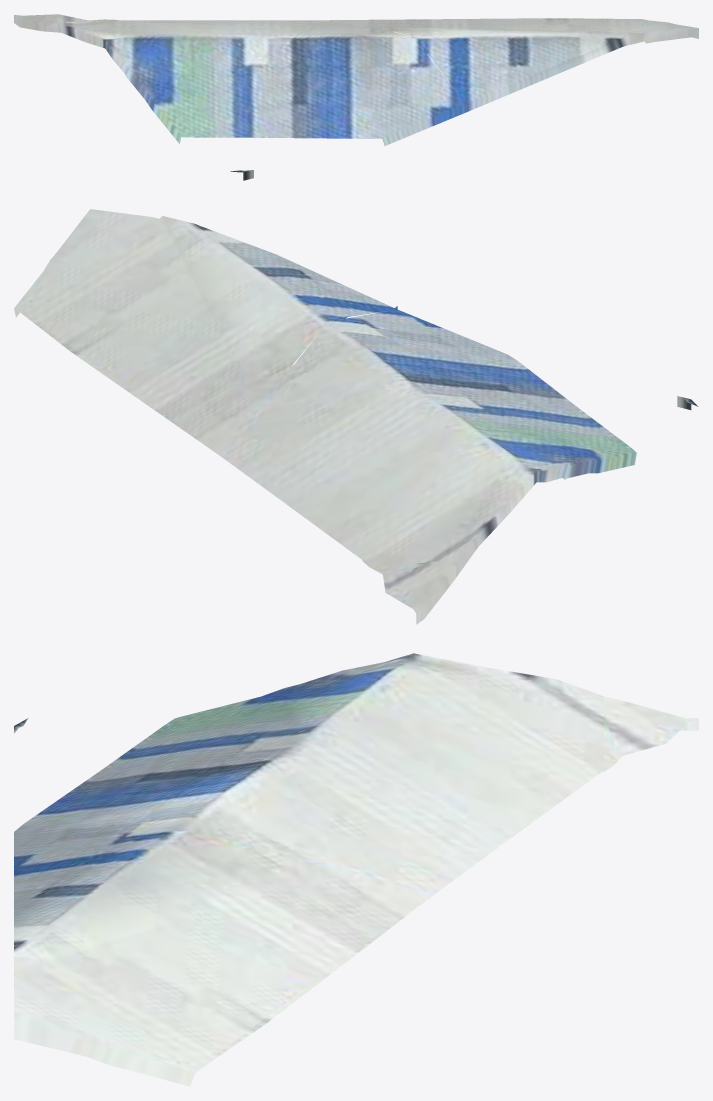
The picture shows the model from 3 angles, top to bottom: view 1: azimuth 30°, elevation 25°; view 2: azimuth 150°, elevation 25°; view 3: azimuth 270°, elevation 25°; orthographic projection. The views are drawn at different scales.
Parts seen in each view (by area): view 1: 30436272704370624514_0; view 2: 30436272704370624514_0; view 3: 30436272704370624514_0.
Boxes of the visible parts, x1,y1,x2,y2 form: 30436272704370624514_0: (14,14,698,180); 30436272704370624514_0: (14,209,698,624); 30436272704370624514_0: (14,653,698,1086).
Size of the model in its own units: 27.31 by 2.93 by 22.21.
1 material, 1 textured.
